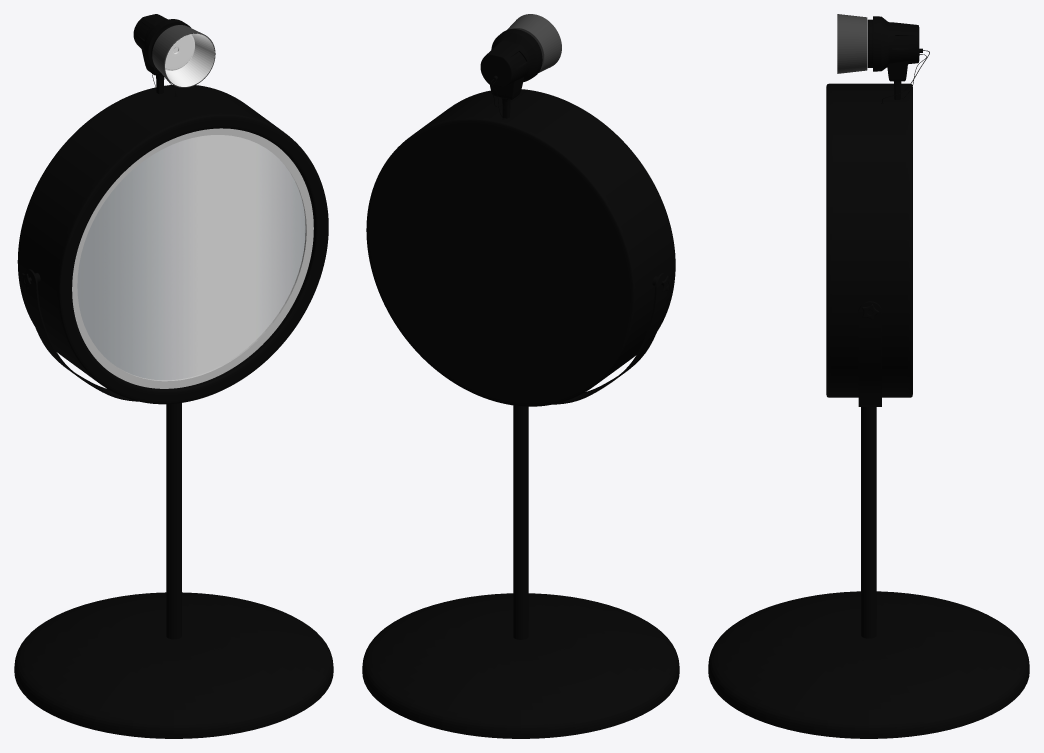
Rendered from Magic Ring.glb.
The picture shows the model from 3 angles, left to right: view 1: azimuth 30°, elevation 25°; view 2: azimuth 150°, elevation 25°; view 3: azimuth 270°, elevation 25°; orthographic projection.
Visible parts, largest first — view 1: Magic Ring, Cylinder001, Cylinder003, Cylinder002, Cylinder005, Cylinder013, Cylinder012; view 2: Cylinder003, Cylinder001, Cylinder002, Cylinder013, Cylinder012, Cylinder005, Box001; view 3: Cylinder001, Cylinder003, Cylinder002, Cylinder013, Cylinder005, Cylinder012.
Boxes of the visible parts, x1,y1,x2,y2 form: Magic Ring: (72, 33, 313, 388); Cylinder001: (14, 592, 333, 738); Cylinder003: (17, 85, 328, 404); Cylinder002: (166, 403, 181, 639); Cylinder005: (25, 269, 137, 401); Cylinder013: (133, 14, 190, 71); Cylinder012: (152, 25, 215, 87); Cylinder003: (366, 89, 675, 406); Cylinder001: (362, 593, 679, 738); Cylinder002: (513, 405, 528, 639); Cylinder013: (480, 29, 542, 87); Cylinder012: (507, 14, 561, 72); Cylinder005: (553, 273, 667, 404); Box001: (490, 77, 523, 118); Cylinder001: (708, 591, 1029, 738); Cylinder003: (826, 83, 912, 397); Cylinder002: (861, 407, 876, 638); Cylinder013: (867, 16, 919, 71); Cylinder005: (858, 301, 881, 406); Cylinder012: (837, 14, 867, 73).
Bounding box in the file's own units: 1.02 × 2.17 × 0.967.
Materials: 5 (1 with a texture image).
